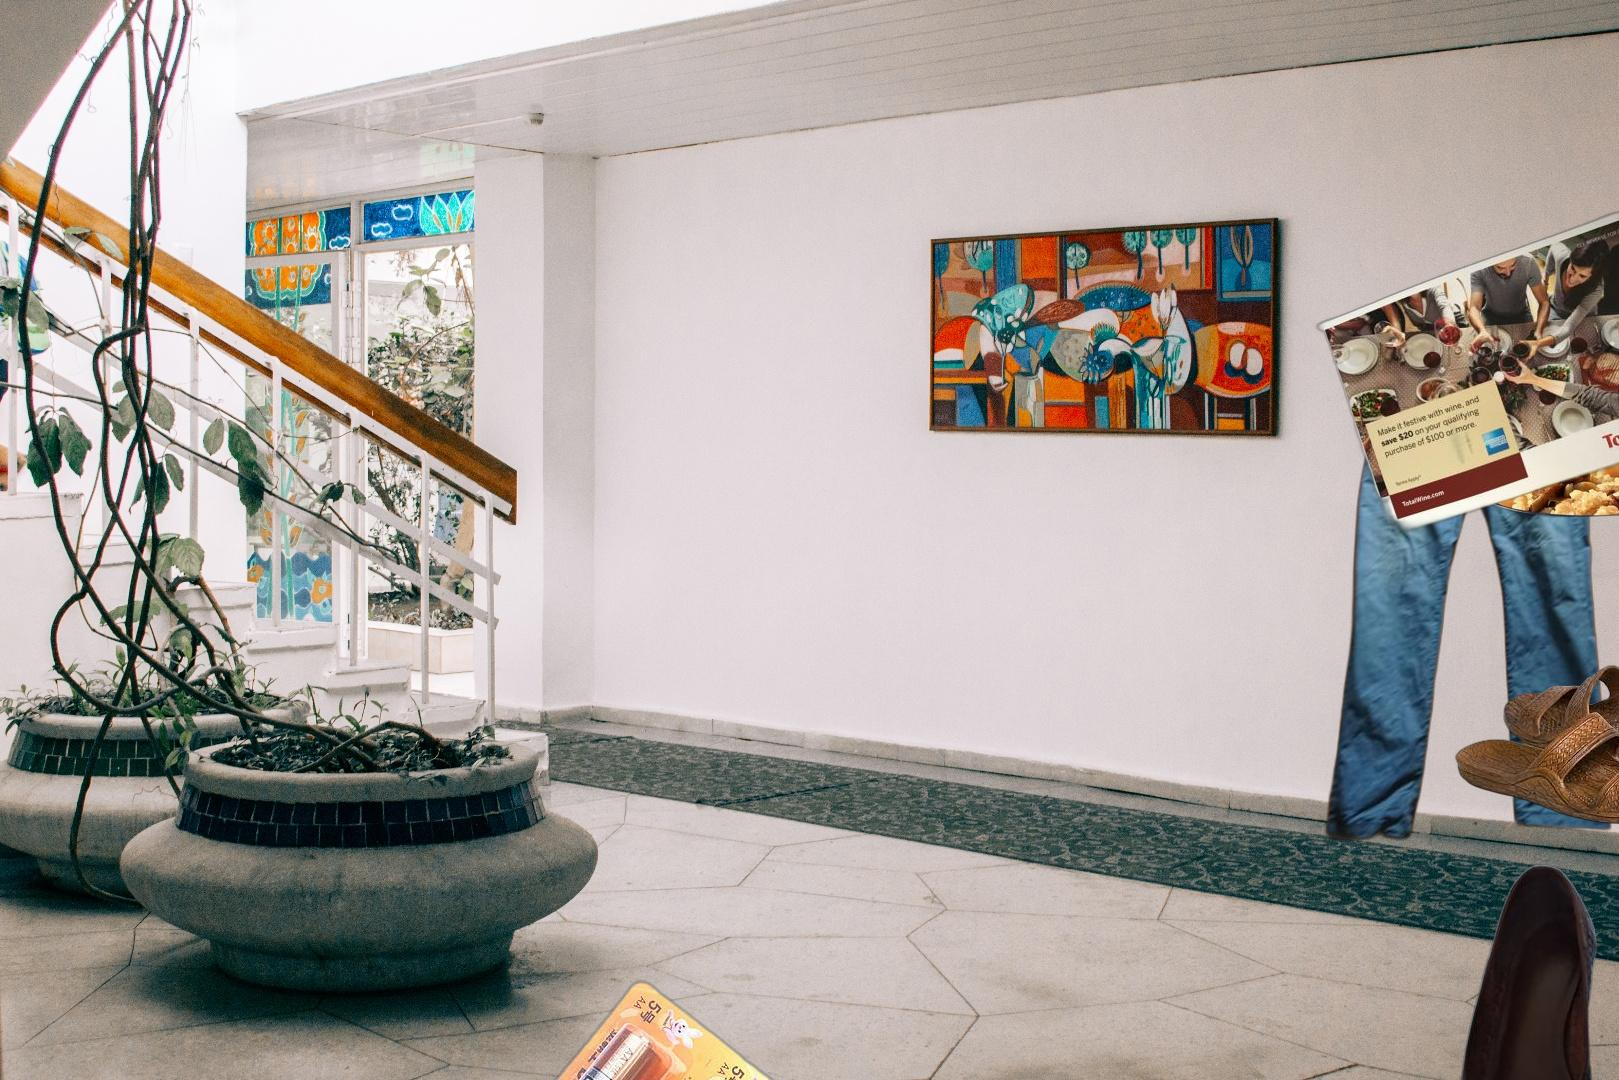battery: (479, 976, 1279, 1080)
biological: (1476, 450, 1619, 579)
clothes: (1322, 339, 1614, 846)
paper: (1287, 199, 1619, 556)
shoes: (1450, 859, 1619, 1080), (1453, 663, 1619, 827)
